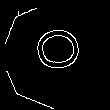O_W: (29, 33, 81, 77)
